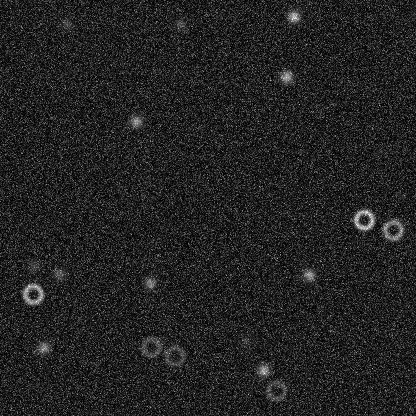Ring: (264, 378, 288, 402), (20, 282, 44, 306), (139, 334, 163, 358), (162, 343, 186, 367), (381, 218, 405, 242), (352, 207, 376, 231)
Spot: (128, 113, 144, 129), (171, 15, 187, 31), (255, 362, 271, 378), (300, 266, 316, 282), (285, 8, 301, 24), (35, 339, 51, 355), (141, 275, 157, 291), (278, 68, 294, 84), (238, 333, 254, 349), (58, 16, 74, 32), (50, 265, 66, 281), (25, 257, 41, 273)
